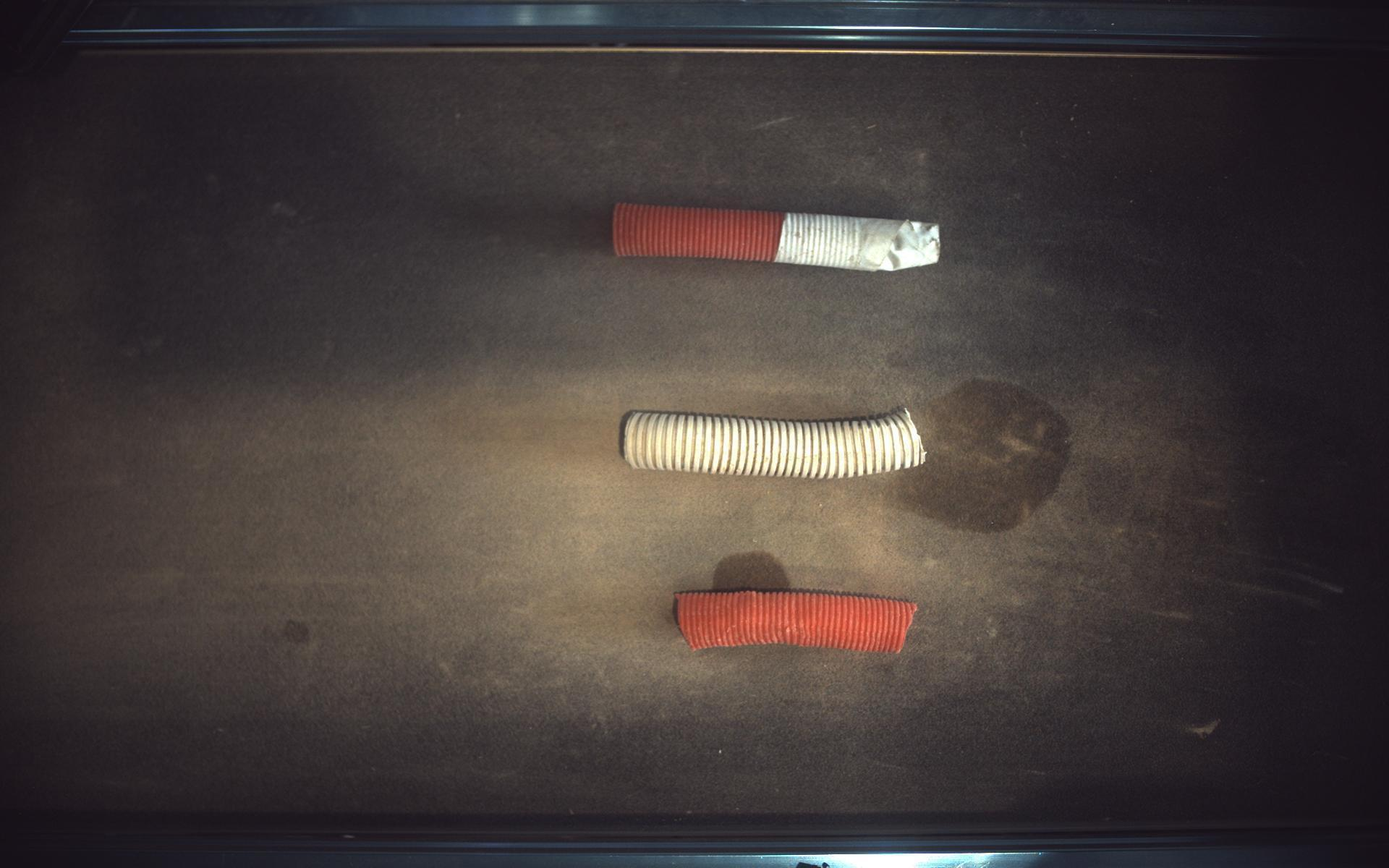pipes: (614, 203, 942, 271), (623, 407, 927, 479), (676, 591, 919, 653)
